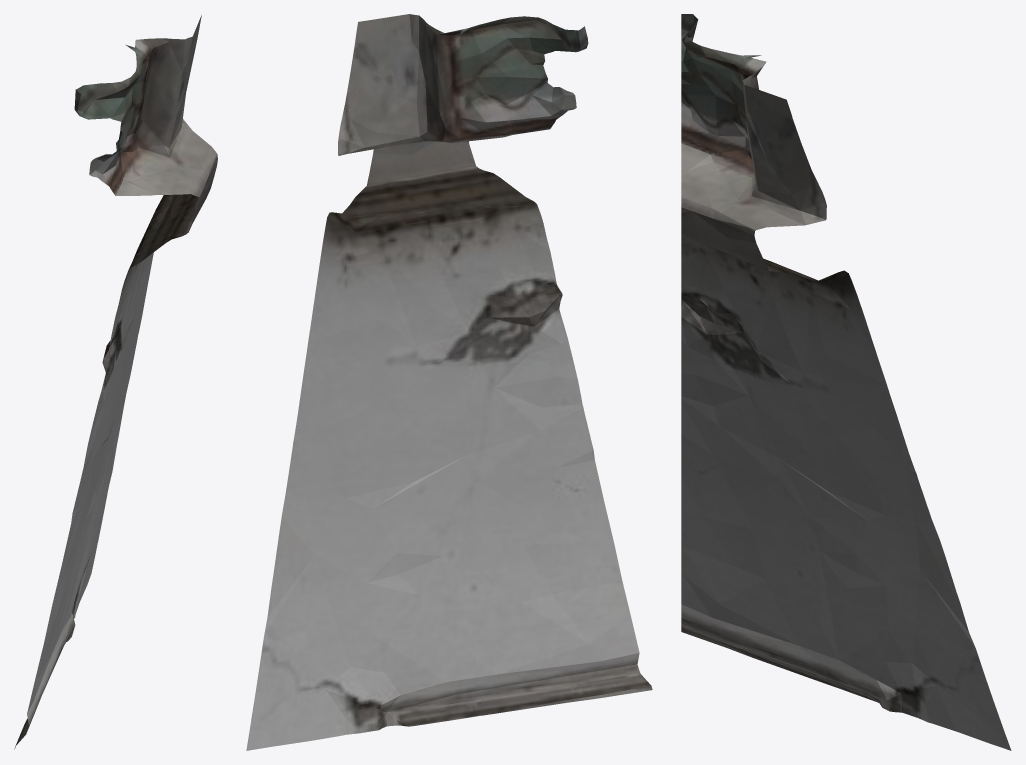
3 renders of one model, left to right at view 1: azimuth 30°, elevation 25°; view 2: azimuth 150°, elevation 25°; view 3: azimuth 270°, elevation 25°, orthographic.
Bounding box in the file's own units: 0.656 × 1.67 × 0.7693.
Materials: 1 (1 with a texture image).
